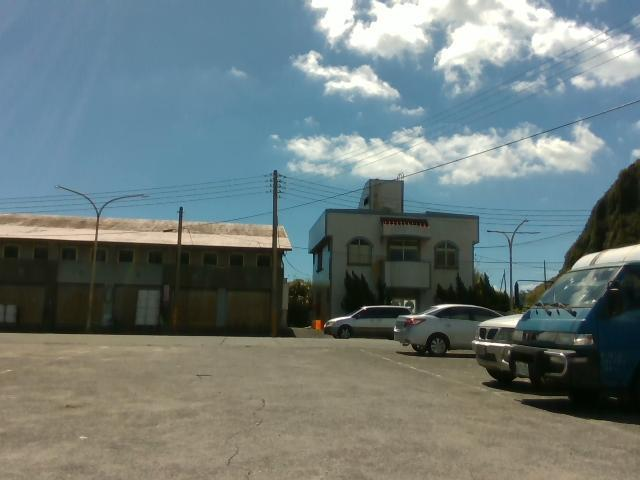pollute: (309, 317, 322, 331)
